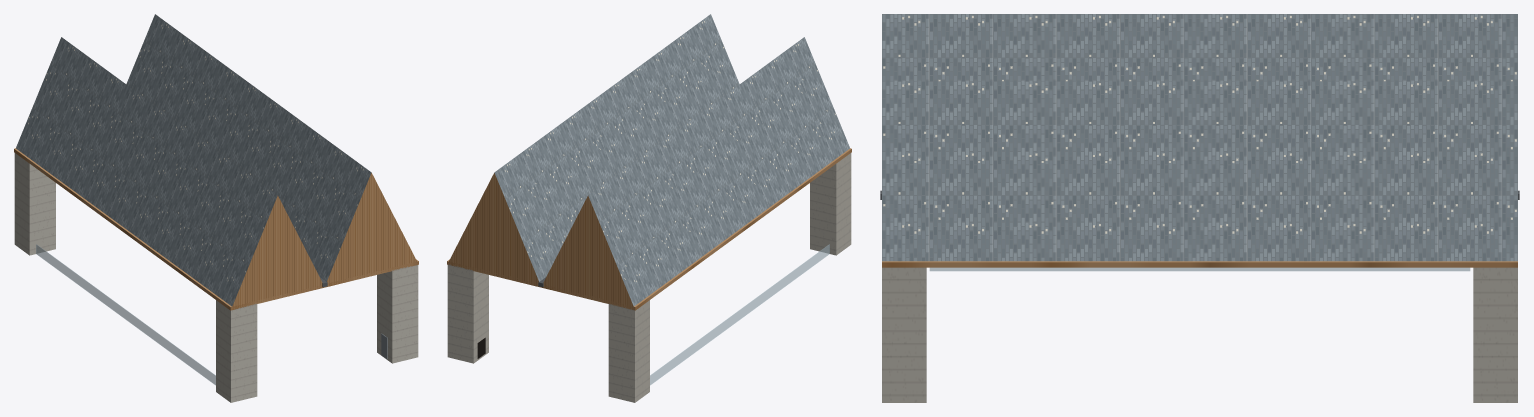
Rendered from stadshal.obj.
3 views of the same model, side by side, from view 1: azimuth 30°, elevation 25°; view 2: azimuth 150°, elevation 25°; view 3: azimuth 270°, elevation 25° (orthographic). The views are drawn at different scales.
Visible parts, largest first — view 1: part1, part2, part7, part11, part5, part3.nocast, part13.nocast; view 2: part1, part2, part5, part9, part7, part13.nocast, part3.nocast; view 3: part2, part1, part9, part11, part3.nocast, part13.nocast.
Boxes of the visible parts, x1,y1,x2,y2 form: part1: (16, 37, 322, 309); part2: (126, 14, 417, 285); part7: (216, 300, 257, 402); part11: (377, 265, 418, 363); part5: (14, 153, 55, 255); part3.nocast: (14, 148, 418, 310); part13.nocast: (36, 244, 215, 385); part1: (543, 37, 849, 309); part2: (448, 14, 739, 285); part5: (608, 300, 649, 402); part9: (447, 264, 488, 363); part7: (810, 153, 851, 255); part13.nocast: (650, 244, 829, 385); part3.nocast: (447, 148, 851, 310); part2: (882, 81, 1517, 261); part1: (882, 14, 1517, 81); part9: (1473, 267, 1517, 402); part11: (882, 267, 926, 402); part3.nocast: (882, 261, 1517, 267); part13.nocast: (929, 267, 1470, 271).
Size of the model in its own units: 20.1 by 20 by 40.2.
7 materials, 3 textured.
